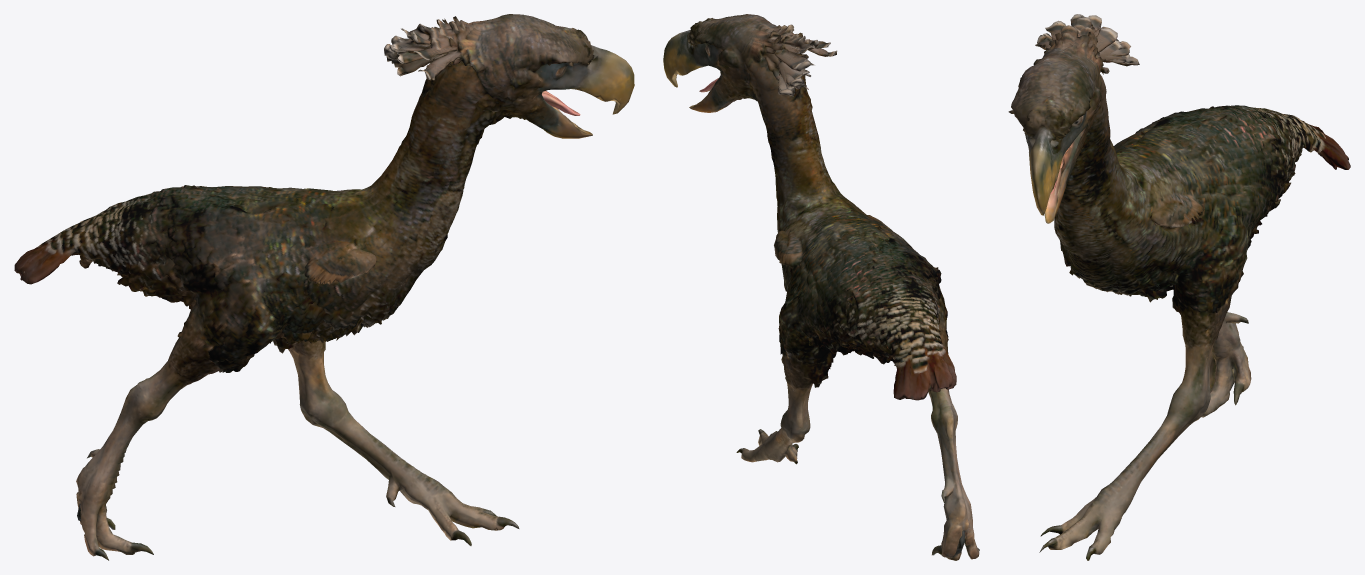
File: rapid.obj
The picture shows the model from 3 angles, left to right: view 1: azimuth 30°, elevation 25°; view 2: azimuth 150°, elevation 25°; view 3: azimuth 270°, elevation 25°; orthographic projection. The views are drawn at different scales.
Visible parts, largest first — view 1: mesh_0; view 2: mesh_0; view 3: mesh_0.
Part boxes in pixels (bbox=[...]): mesh_0: bbox=[14, 14, 634, 560]; mesh_0: bbox=[663, 14, 979, 560]; mesh_0: bbox=[1008, 14, 1350, 560].
Size of the model in its own units: 7.98 by 8.25 by 4.98.
Materials: 1 (1 with a texture image).
